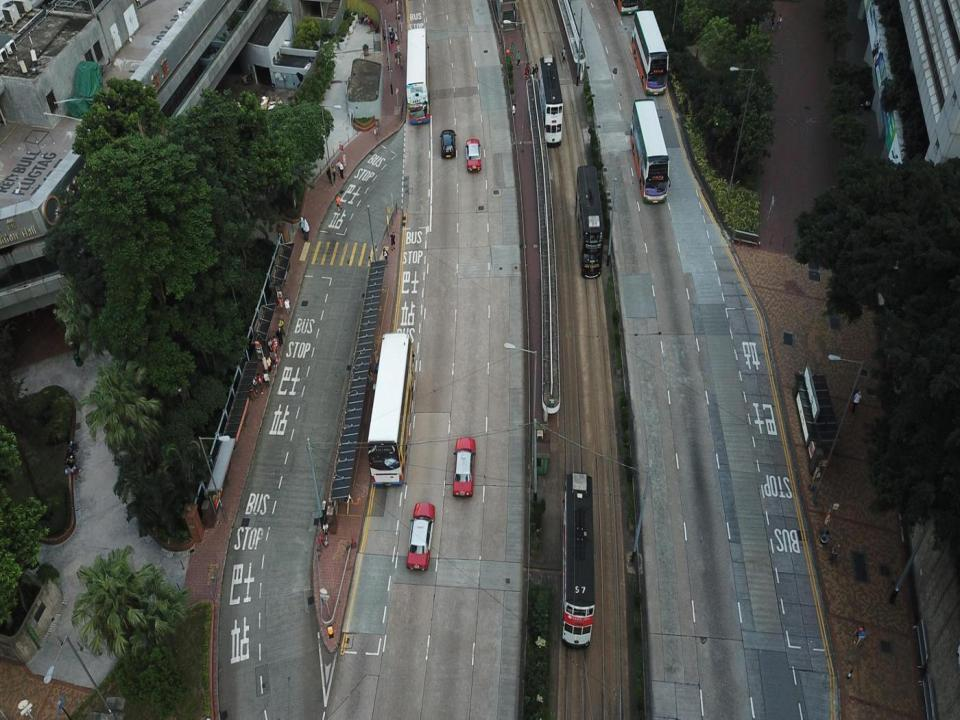bus: (368, 332, 419, 484), (562, 471, 602, 649), (630, 96, 672, 206), (574, 163, 602, 278), (634, 8, 664, 99), (537, 54, 565, 147), (408, 24, 429, 125)
car: (406, 503, 437, 572), (451, 435, 477, 498), (465, 140, 480, 174), (440, 128, 456, 158)
